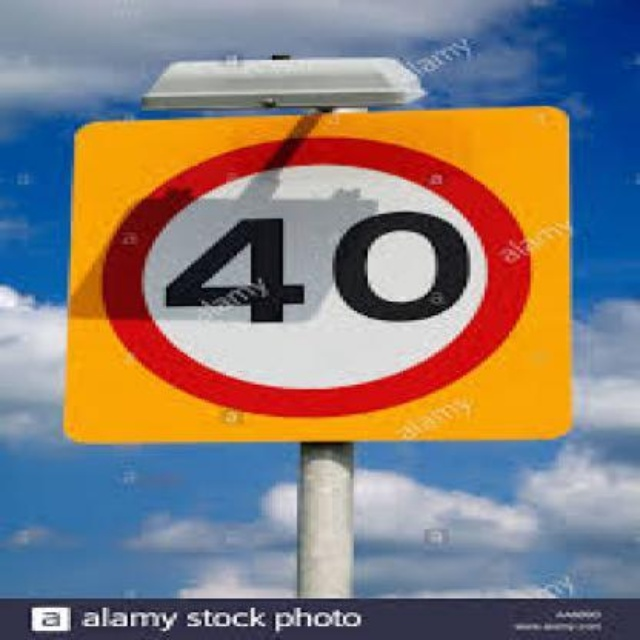Tốc độ tối đa cho phép 10km/h: (103, 138, 531, 411)
